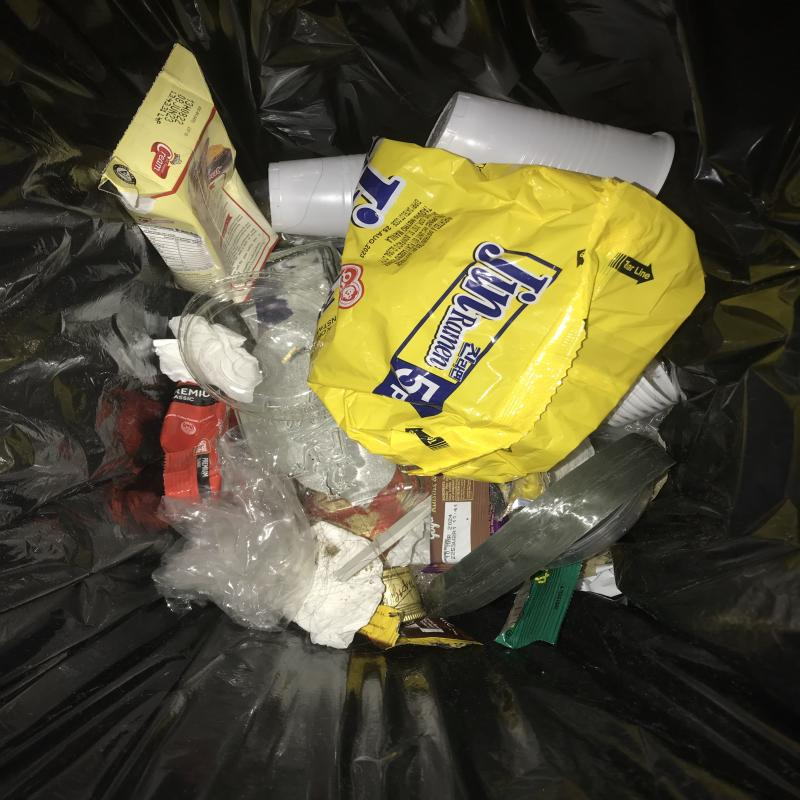food wrapper: (307, 139, 706, 485), (160, 382, 238, 499), (421, 477, 509, 574), (359, 605, 483, 651)
paper: (293, 521, 386, 650)
plastic bag: (151, 407, 364, 634)
plastic container: (425, 94, 678, 198), (268, 154, 368, 239)
uht carton: (97, 43, 279, 306)
